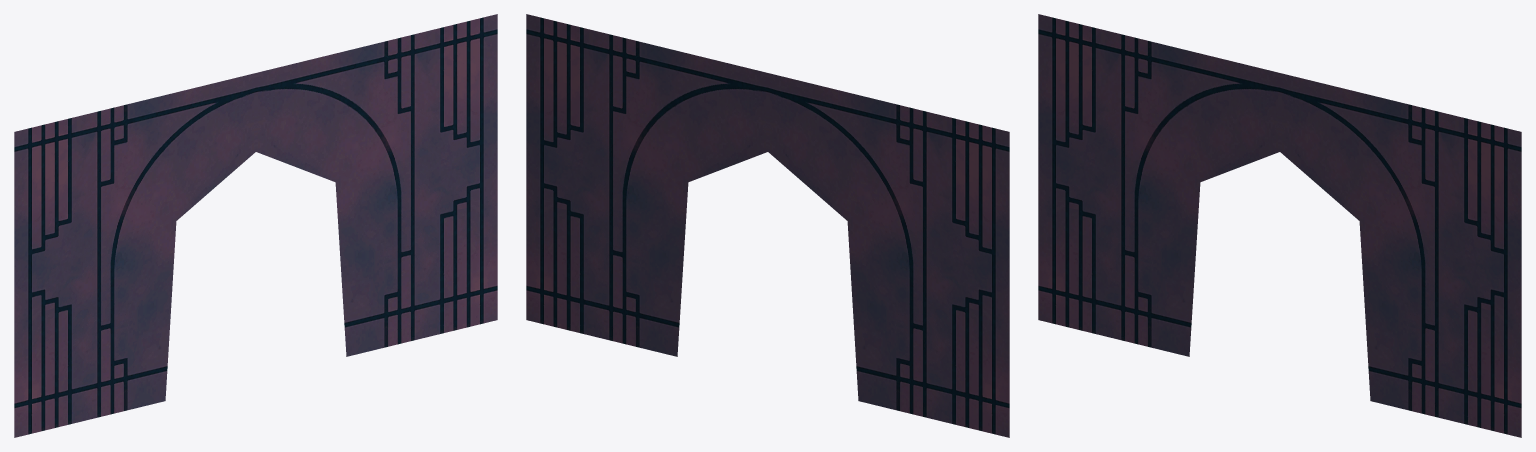
The model's file is glass2.gltf.
The picture shows the model from 3 angles, left to right: view 1: azimuth 30°, elevation 25°; view 2: azimuth 150°, elevation 25°; view 3: azimuth 330°, elevation 25°; orthographic projection.
Parts seen in each view (by area): view 1: ModelObject; view 2: ModelObject; view 3: ModelObject.
Part boxes in pixels (x1,y1,x2,y2): ModelObject: (14, 14, 497, 437); ModelObject: (526, 14, 1009, 437); ModelObject: (1038, 14, 1521, 437).
Size of the model in its own units: 13.44 by 8.13 by 0.
1 material, 1 textured.
